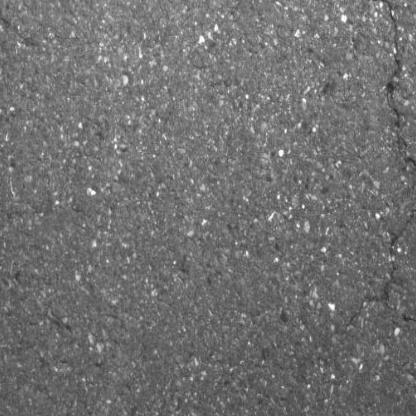Cracks: (345, 0, 416, 345)
